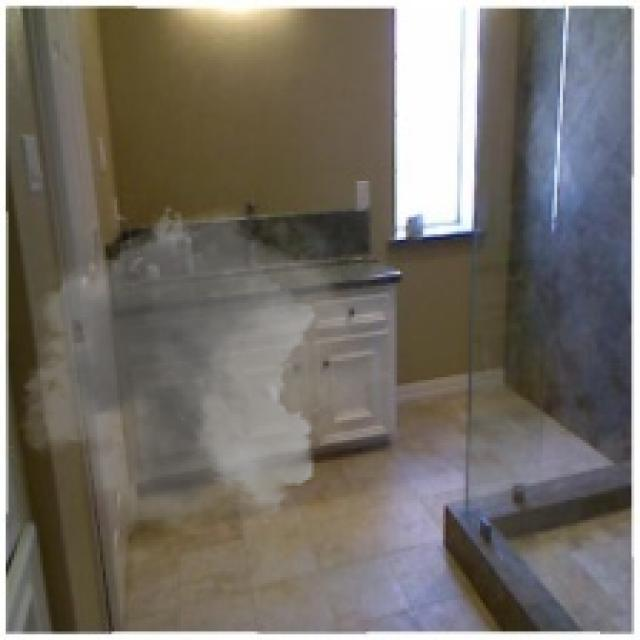smoke: (3, 194, 394, 537)
